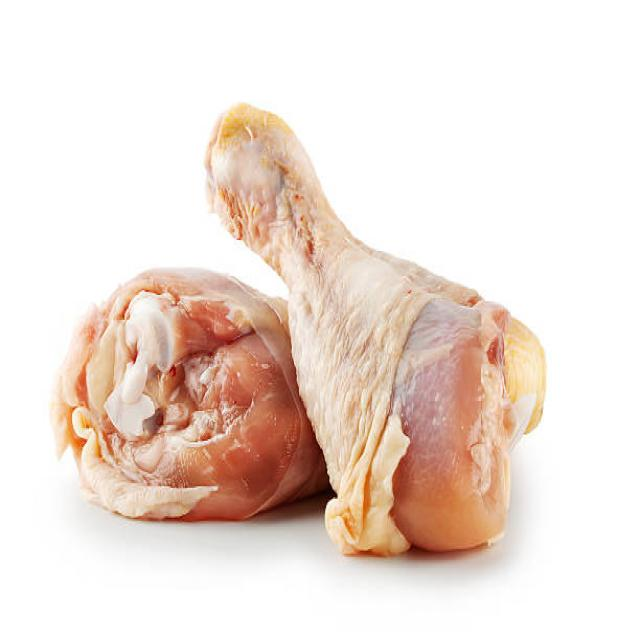Chicken Thigh: (226, 101, 546, 543)
